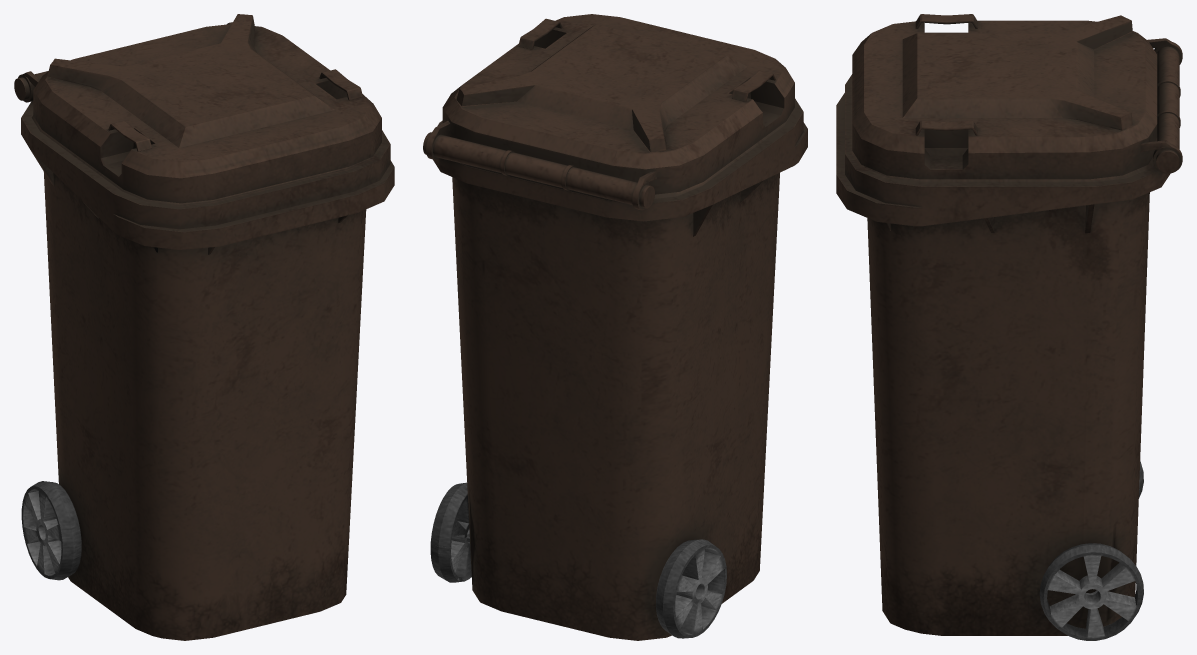
Rendered from trash_can_actual.glb.
3 renders of one model, left to right at view 1: azimuth 30°, elevation 25°; view 2: azimuth 150°, elevation 25°; view 3: azimuth 270°, elevation 25°, orthographic. The views are drawn at different scales.
Parts seen in each view (by area): view 1: Trashcan; view 2: Trashcan; view 3: Trashcan.
Boxes of the visible parts, x1,y1,x2,y2 form: Trashcan: (14,14,394,640); Trashcan: (423,14,807,640); Trashcan: (836,14,1182,640).
Size of the model in its own units: 2.94 by 5.25 by 3.18.
Materials: 1 (1 with a texture image).
